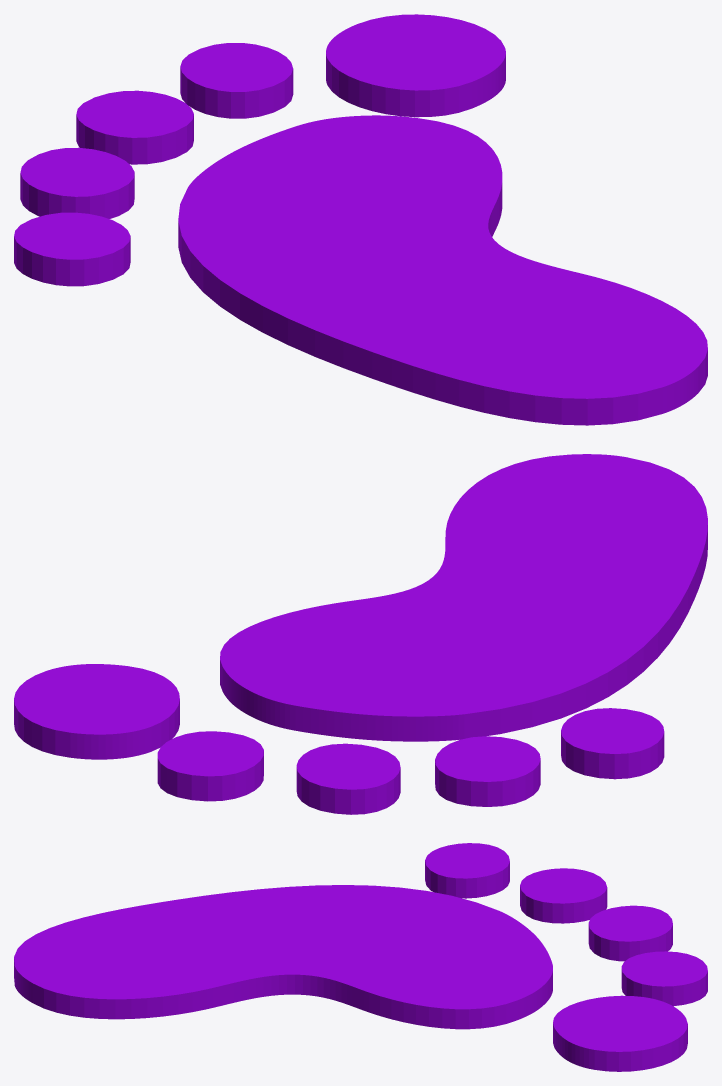
Rendered from LeftFoot.fbx.
3 views of the same model, one above another, from view 1: azimuth 30°, elevation 25°; view 2: azimuth 150°, elevation 25°; view 3: azimuth 270°, elevation 25° (orthographic). The views are drawn at different scales.
Visible parts, largest first — view 1: path1323; view 2: path1323; view 3: path1323.
Boxes of the visible parts, x1=… form: path1323: x1=14, y1=14, x2=707, y2=425; path1323: x1=14, y1=454, x2=707, y2=814; path1323: x1=14, y1=843, x2=707, y2=1071.
Bounding box in the file's own units: 6.75 × 0.301 × 9.48.
